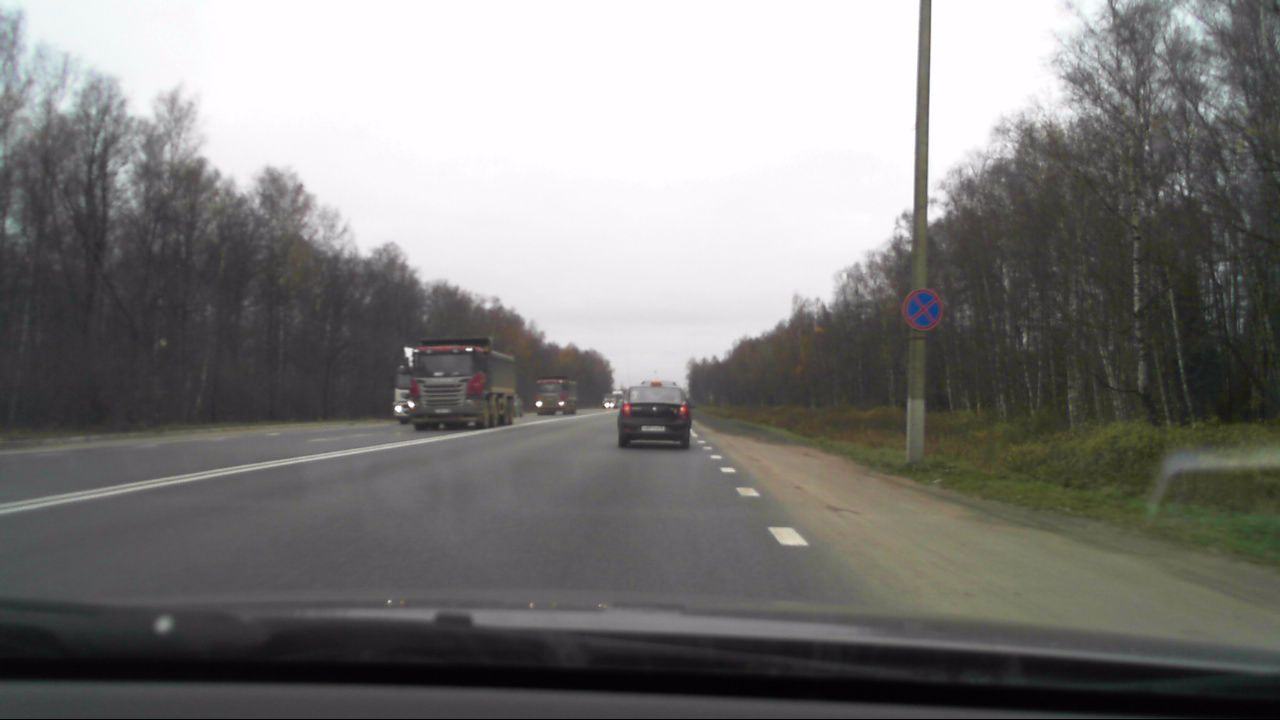No Parking: (899, 286, 946, 334)
